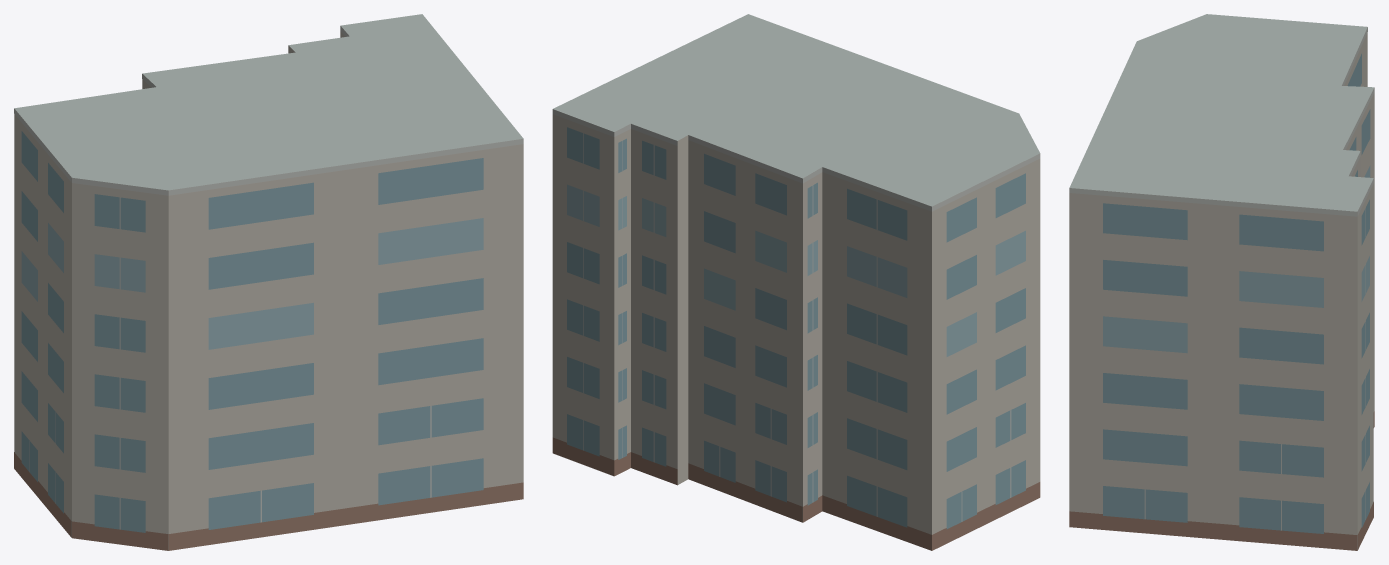
Rendered from survey-upis-32972200.glb.
3 views of the same model, side by side, from view 1: azimuth 30°, elevation 25°; view 2: azimuth 150°, elevation 25°; view 3: azimuth 270°, elevation 25° (orthographic). The views are drawn at different scales.
Visible parts, largest first — view 1: survey-upis-32972200.tmp; view 2: survey-upis-32972200.tmp; view 3: survey-upis-32972200.tmp.
Part boxes in pixels (x1,y1,x2,y2): survey-upis-32972200.tmp: [14, 14, 523, 550]; survey-upis-32972200.tmp: [552, 14, 1040, 550]; survey-upis-32972200.tmp: [1069, 14, 1374, 550].
Size of the model in its own units: 20.76 by 16.6 by 13.55.
